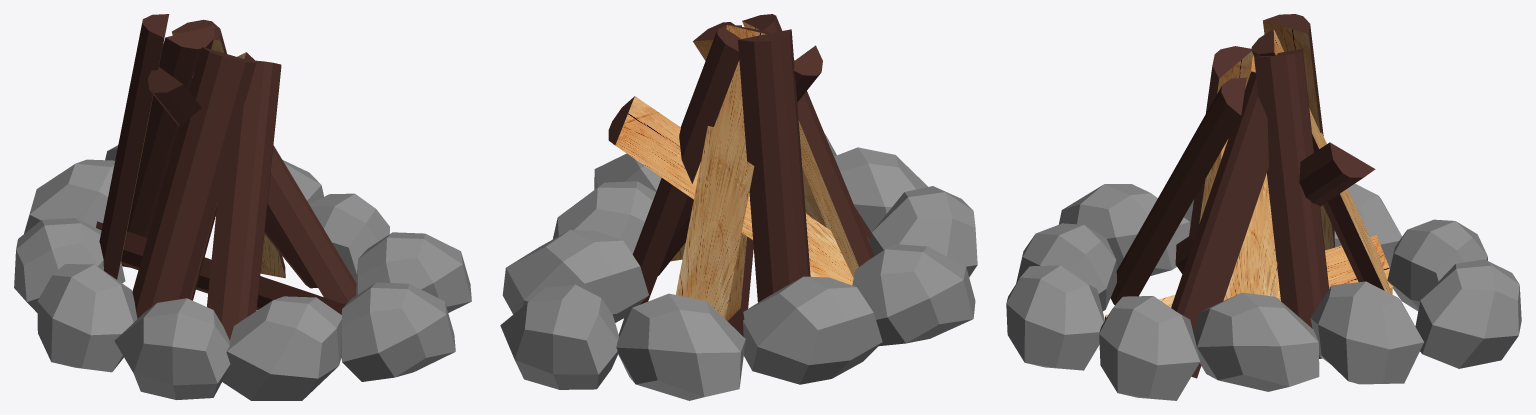
Rendered from Campfire_02.fbx.
3 views of the same model, side by side, from view 1: azimuth 30°, elevation 25°; view 2: azimuth 150°, elevation 25°; view 3: azimuth 270°, elevation 25° (orthographic). The views are drawn at different scales.
Parts seen in each view (by area): view 1: Campfire_02; view 2: Campfire_02; view 3: Campfire_02.
Part boxes in pixels (x1=…): Campfire_02: x1=14, y1=14, x2=471, y2=400; Campfire_02: x1=500, y1=14, x2=977, y2=400; Campfire_02: x1=1006, y1=14, x2=1521, y2=400.
Bounding box in the file's own units: 402 × 292 × 467.
